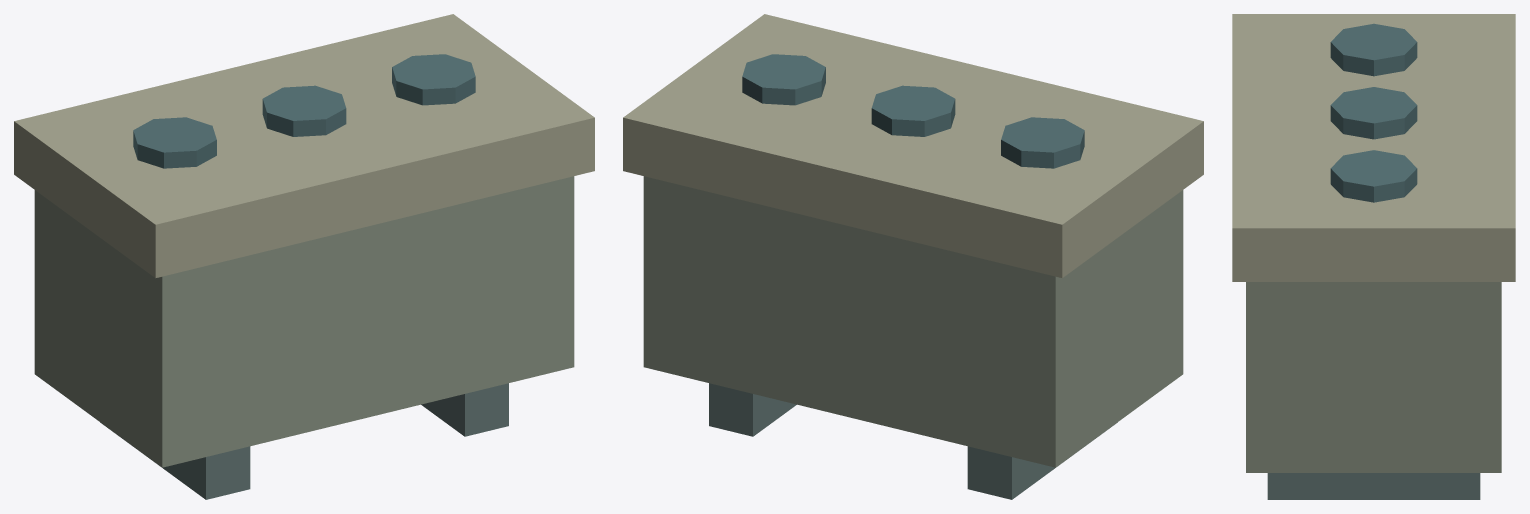
File: map-exclusive-v3__iron_09.glb
3 views of the same model, side by side, from view 1: azimuth 30°, elevation 25°; view 2: azimuth 150°, elevation 25°; view 3: azimuth 270°, elevation 25° (orthographic).
Parts seen in each view (by area): view 1: iron_09; view 2: iron_09; view 3: iron_09.
Part boxes in pixels (bbox=[...]): iron_09: bbox=[14, 14, 594, 499]; iron_09: bbox=[623, 14, 1203, 499]; iron_09: bbox=[1232, 14, 1515, 499].
Size of the model in its own units: 1.29 by 0.9 by 0.72.
